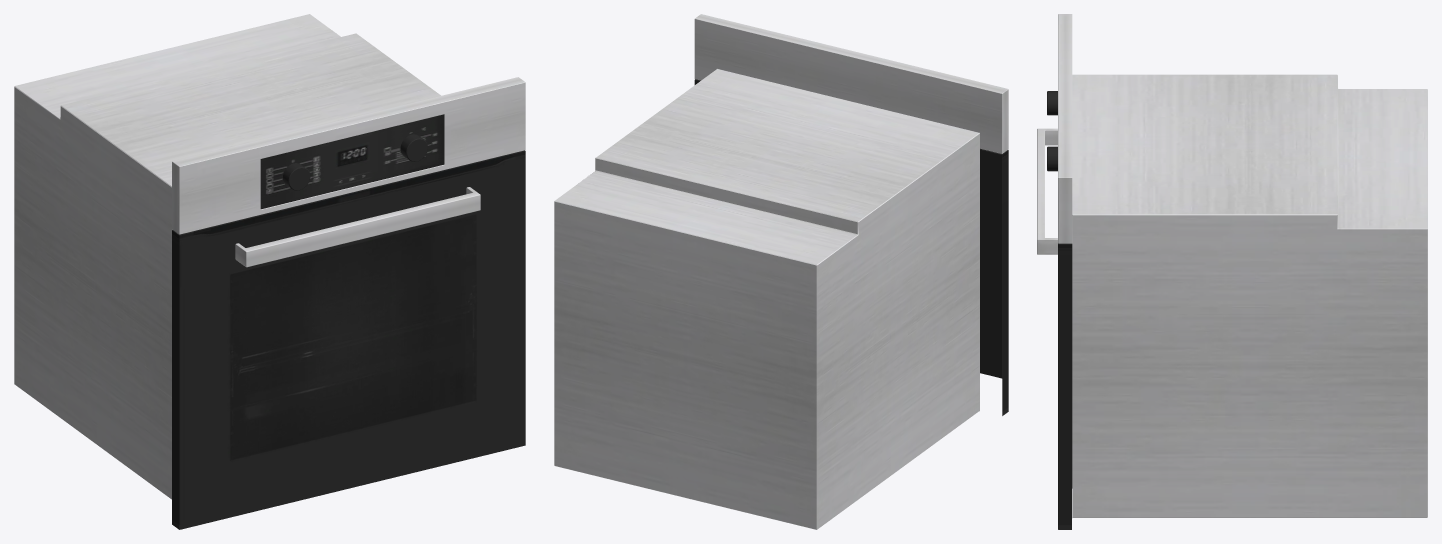
The model's file is SEB000049.glb.
3 renders of one model, left to right at view 1: azimuth 30°, elevation 25°; view 2: azimuth 150°, elevation 25°; view 3: azimuth 270°, elevation 25°, orthographic. The views are drawn at different scales.
Parts seen in each view (by area): view 1: BP_SEB000049; view 2: BP_SEB000049; view 3: BP_SEB000049.
Part boxes in pixels (box(x1,y1,x2,y2)): BP_SEB000049: box(14, 14, 525, 529); BP_SEB000049: box(554, 14, 1008, 529); BP_SEB000049: box(1037, 14, 1427, 529).
Bounding box in the file's own units: 0.595 × 0.596 × 0.5991.
Materials: 4 (3 with a texture image).
